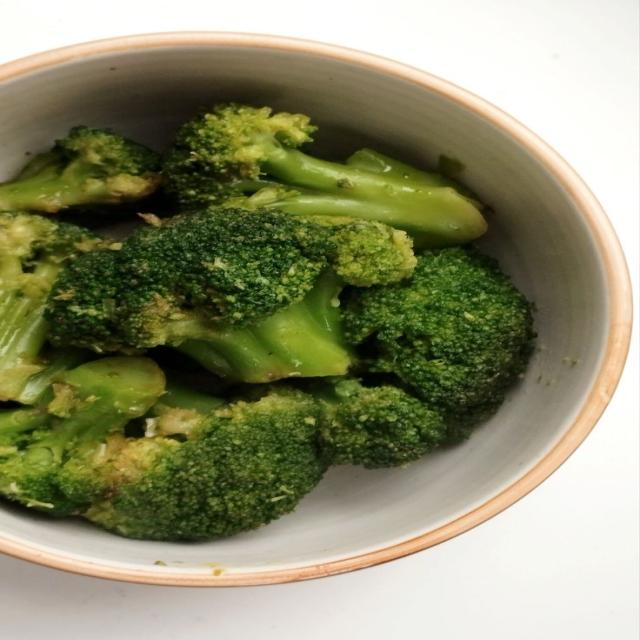broccoli: (48, 209, 415, 382), (163, 104, 486, 246), (62, 388, 326, 540), (344, 247, 533, 439), (0, 357, 165, 515), (0, 212, 108, 403), (0, 127, 160, 212), (315, 379, 446, 468)
